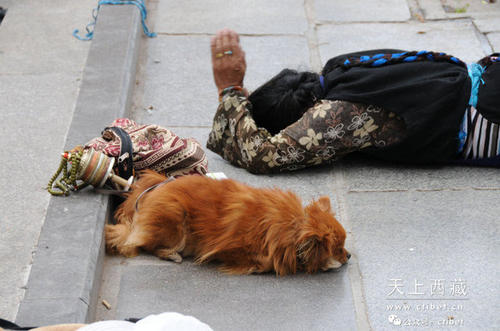down: (203, 25, 500, 174)
